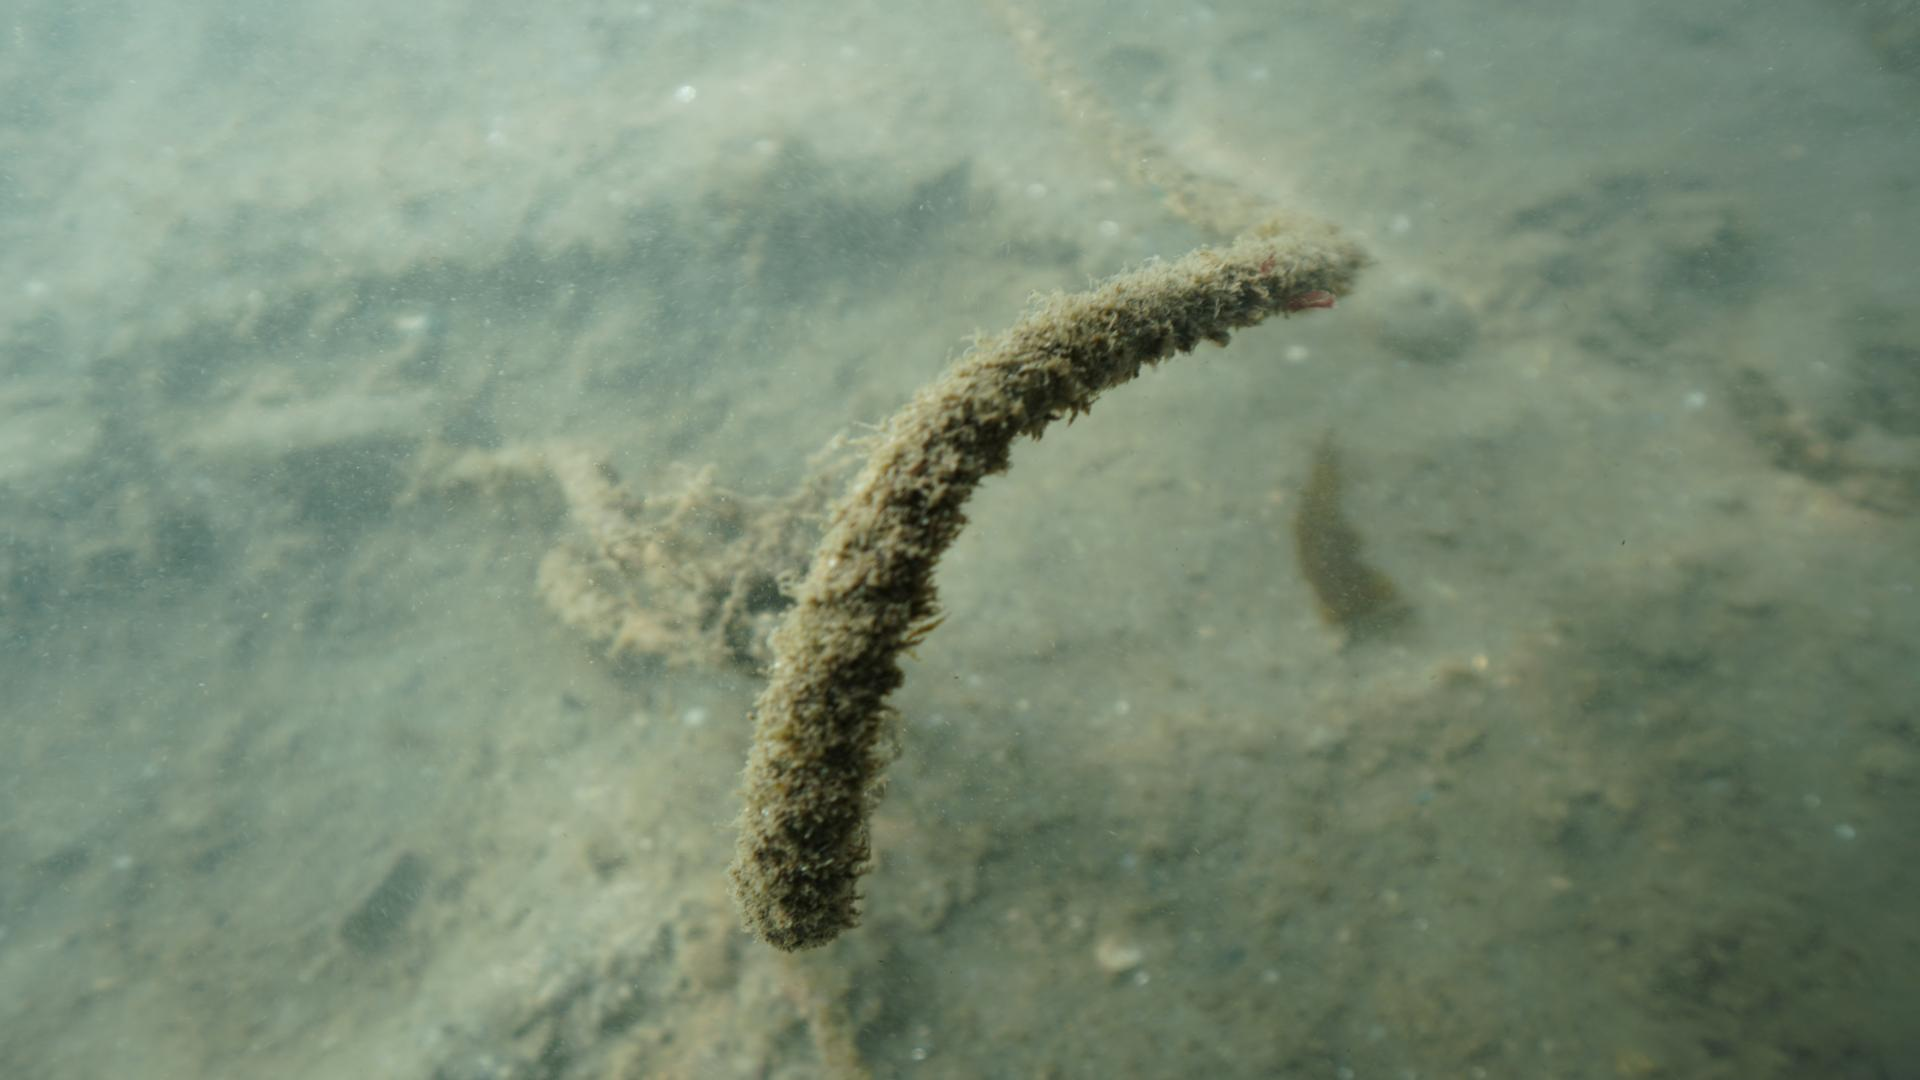rope: (721, 225, 1365, 951)
